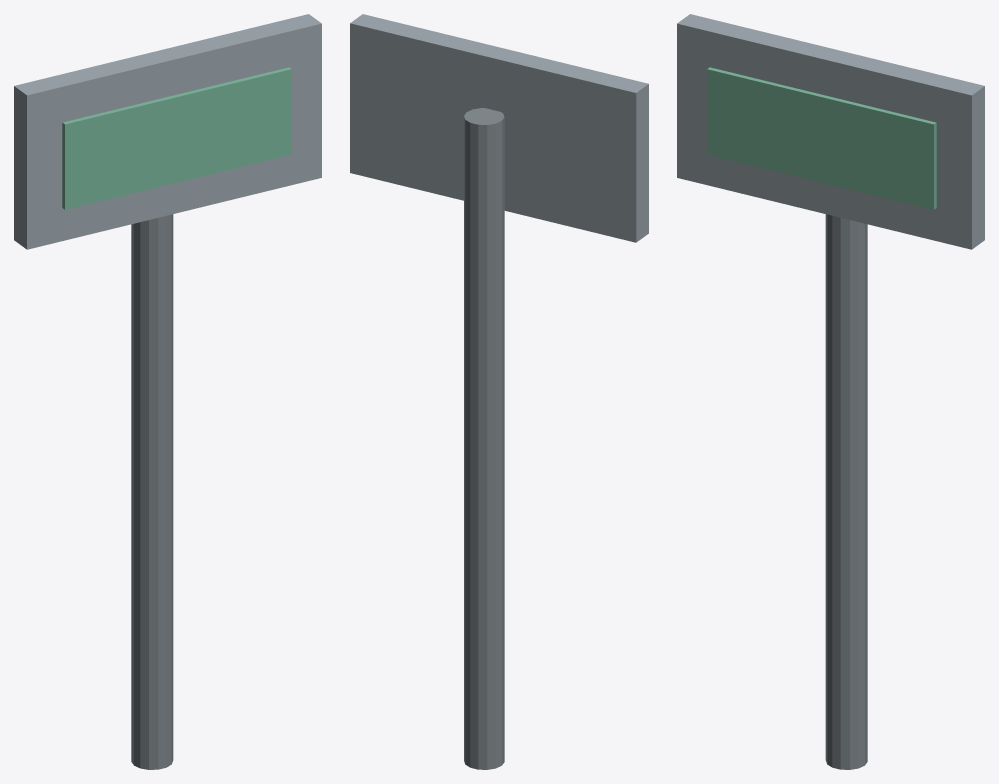
Rendered from prop_wayfinding.glb.
The picture shows the model from 3 angles, left to right: view 1: azimuth 30°, elevation 25°; view 2: azimuth 150°, elevation 25°; view 3: azimuth 330°, elevation 25°; orthographic projection. The views are drawn at different scales.
Visible parts, largest first — view 1: prop_wayfinding_steel, prop_wayfinding_metal, prop_wayfinding_signal_green; view 2: prop_wayfinding_steel, prop_wayfinding_metal; view 3: prop_wayfinding_steel, prop_wayfinding_metal, prop_wayfinding_signal_green.
Boxes of the visible parts, bbox=[...] form: prop_wayfinding_steel: bbox=[14, 14, 321, 249]; prop_wayfinding_metal: bbox=[131, 214, 173, 769]; prop_wayfinding_signal_green: bbox=[62, 67, 291, 209]; prop_wayfinding_steel: bbox=[350, 14, 648, 242]; prop_wayfinding_metal: bbox=[464, 108, 504, 769]; prop_wayfinding_steel: bbox=[677, 14, 984, 249]; prop_wayfinding_metal: bbox=[825, 214, 867, 769]; prop_wayfinding_signal_green: bbox=[707, 67, 936, 209].
Bounding box in the file's own units: 1.3 × 3.03 × 0.278.
